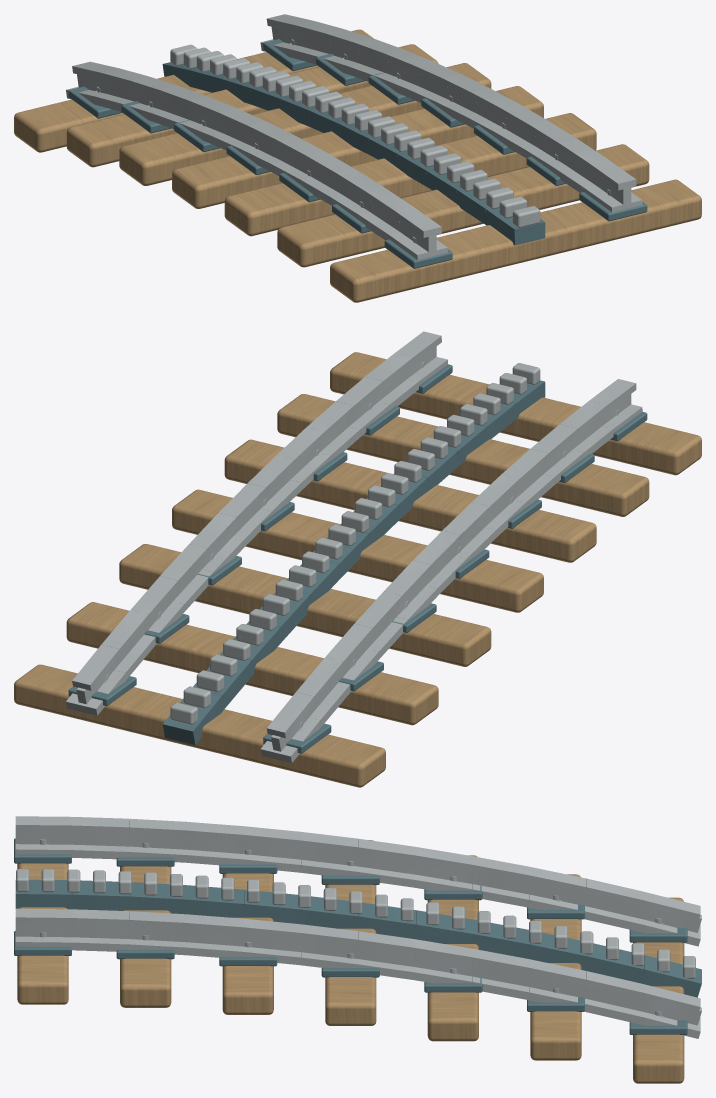
File: gorgehold-survivor-gallery-and-operations-rack-rail-ho-2da95b45__32886.glb
The picture shows the model from 3 angles, top to bottom: view 1: azimuth 30°, elevation 25°; view 2: azimuth 150°, elevation 25°; view 3: azimuth 270°, elevation 25°; orthographic projection. The views are drawn at different scales.
Visible parts, largest first — view 1: rack-rail-horizontal-transition; view 2: rack-rail-horizontal-transition; view 3: rack-rail-horizontal-transition.
Part boxes in pixels (bbox=[...]): rack-rail-horizontal-transition: bbox=[14, 14, 701, 302]; rack-rail-horizontal-transition: bbox=[14, 331, 701, 787]; rack-rail-horizontal-transition: bbox=[14, 816, 701, 1083].
Size of the model in its own units: 1.15 by 0.4373 by 2.01.
3 materials, 3 textured.
